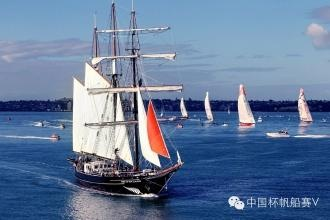fanchuan: (70, 1, 186, 201), (234, 84, 256, 125), (297, 86, 316, 125), (198, 91, 217, 126), (177, 97, 190, 120)
otherboat: (265, 129, 291, 139)
